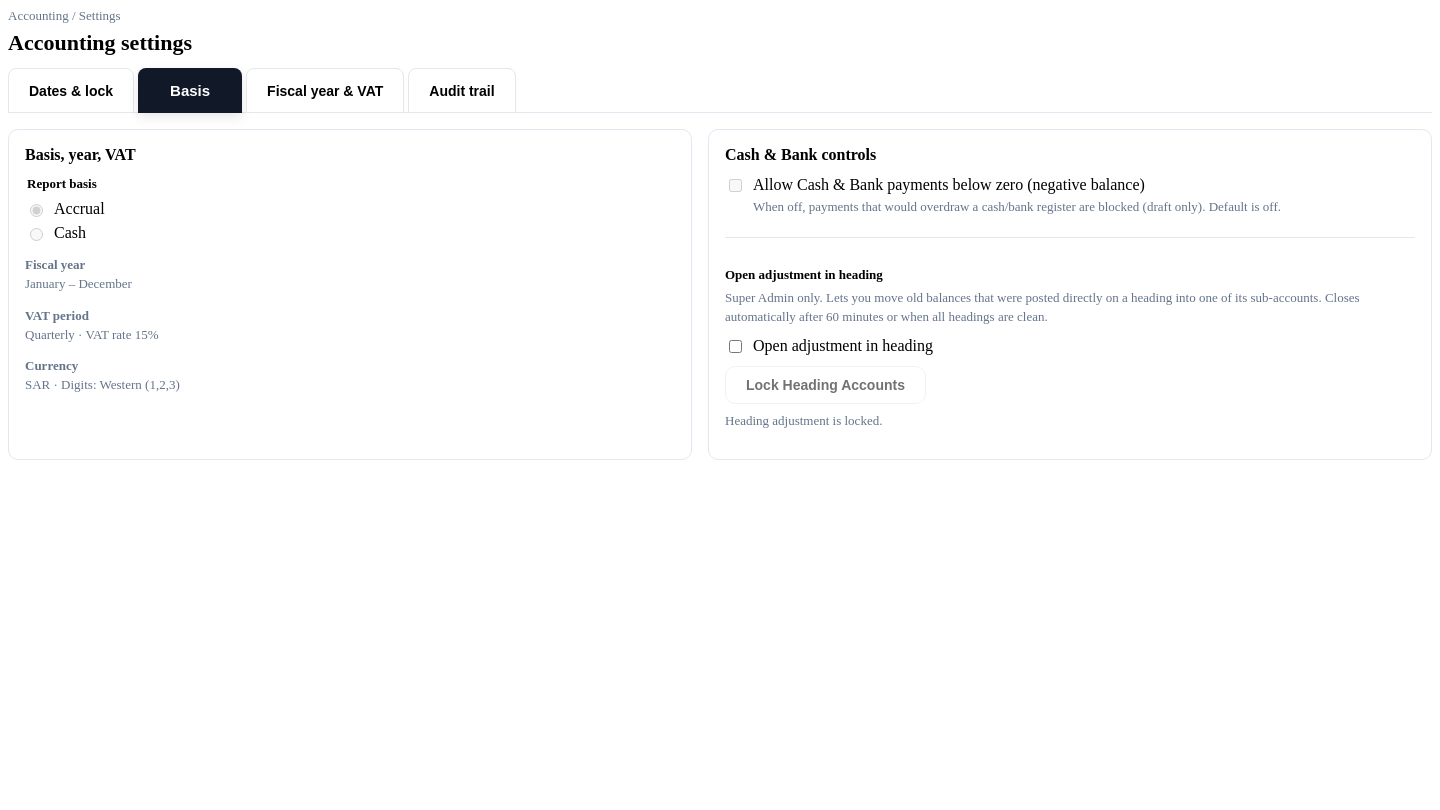
Test case: WorkshopAccountingSettings heading toggle dialog › cancel and Escape do not patch
This screenshot has width=1440, height=810.
Click the checkbox with test id "heading-reclass-open-checkbox": (736, 346) [729,340,742,352]
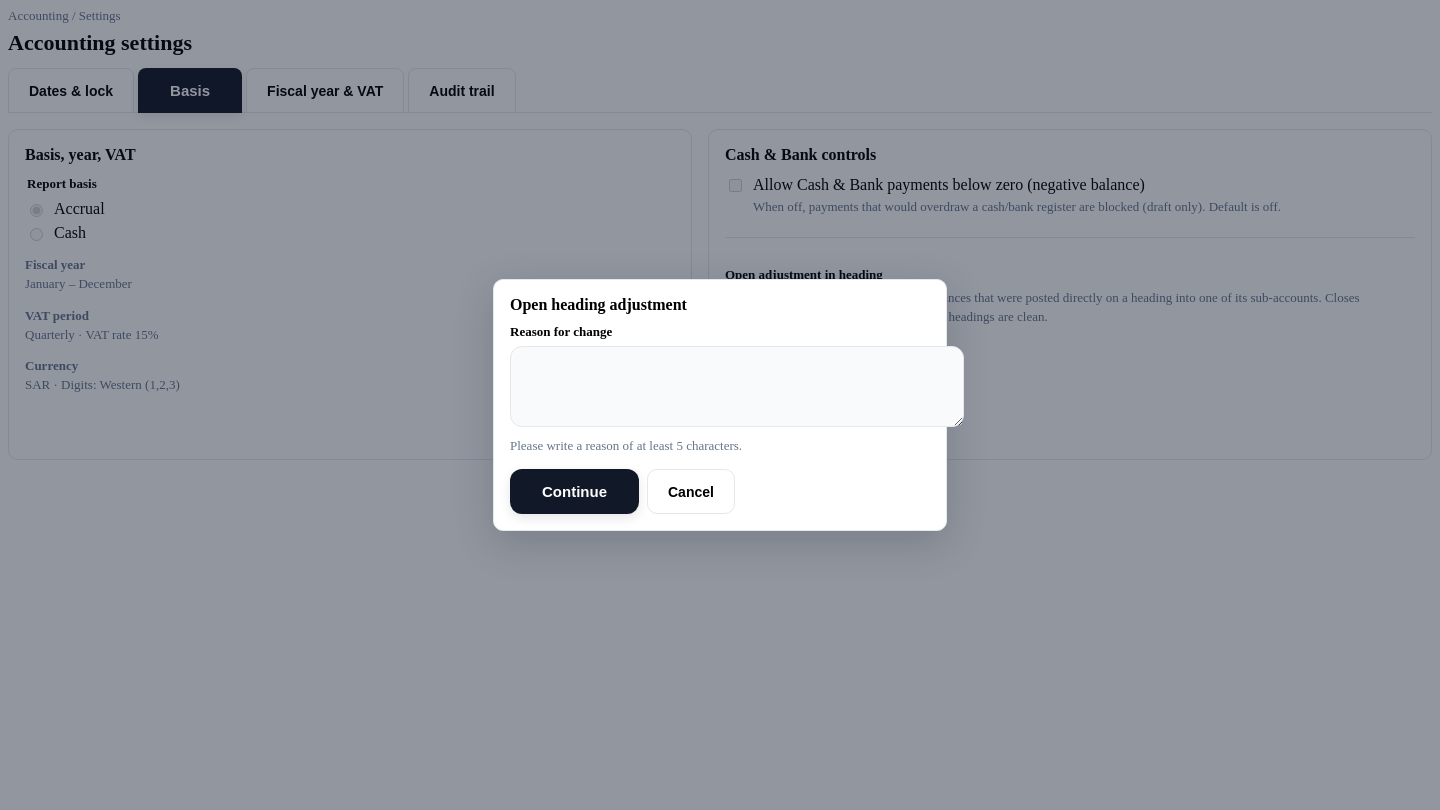
Click the button with test id "heading-reclass-cancel": (691, 492) [647,469,735,514]
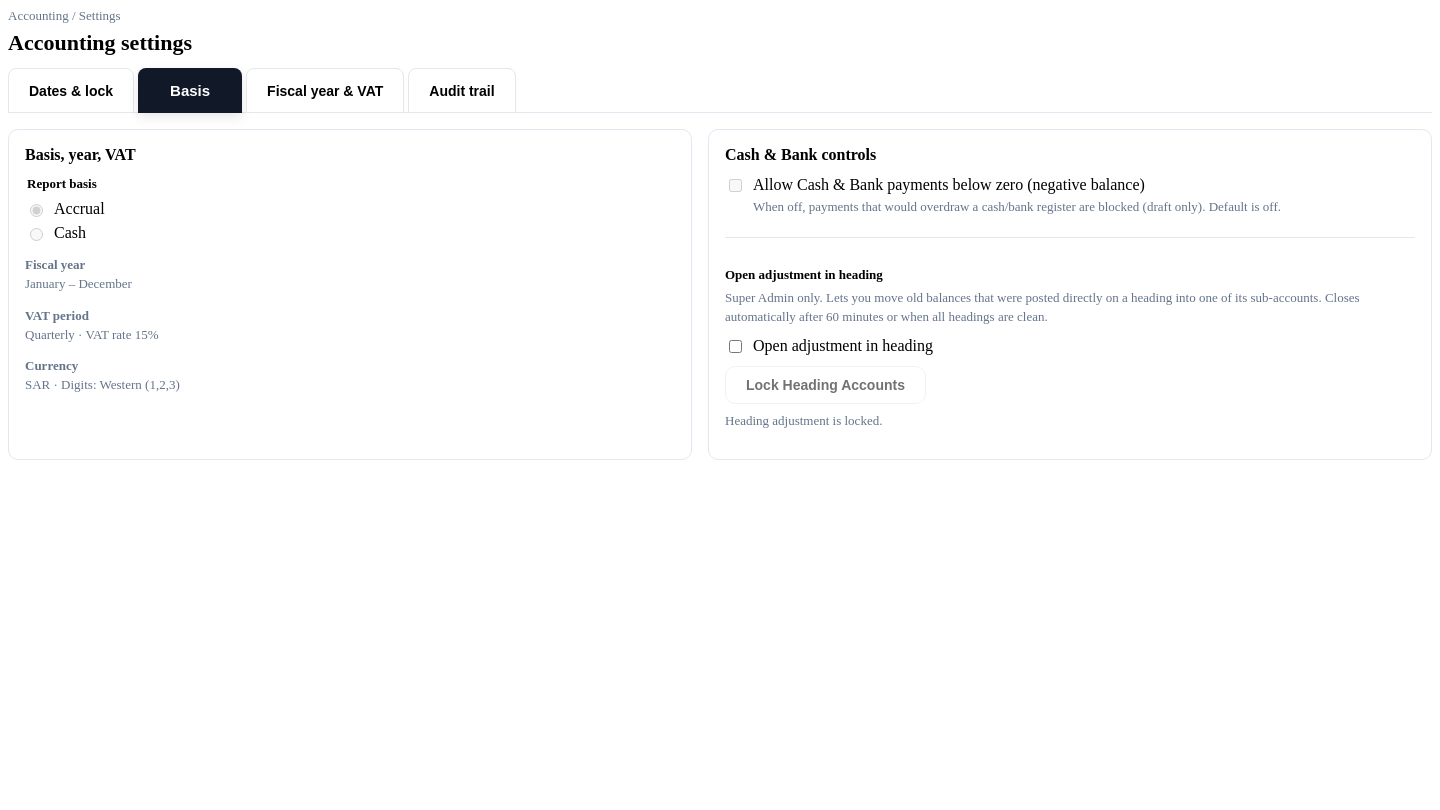
Check: the dialog with test id "heading-reclass-reason-dialog" is gone
Click the checkbox with test id "heading-reclass-open-checkbox": (736, 346) [729,340,742,352]
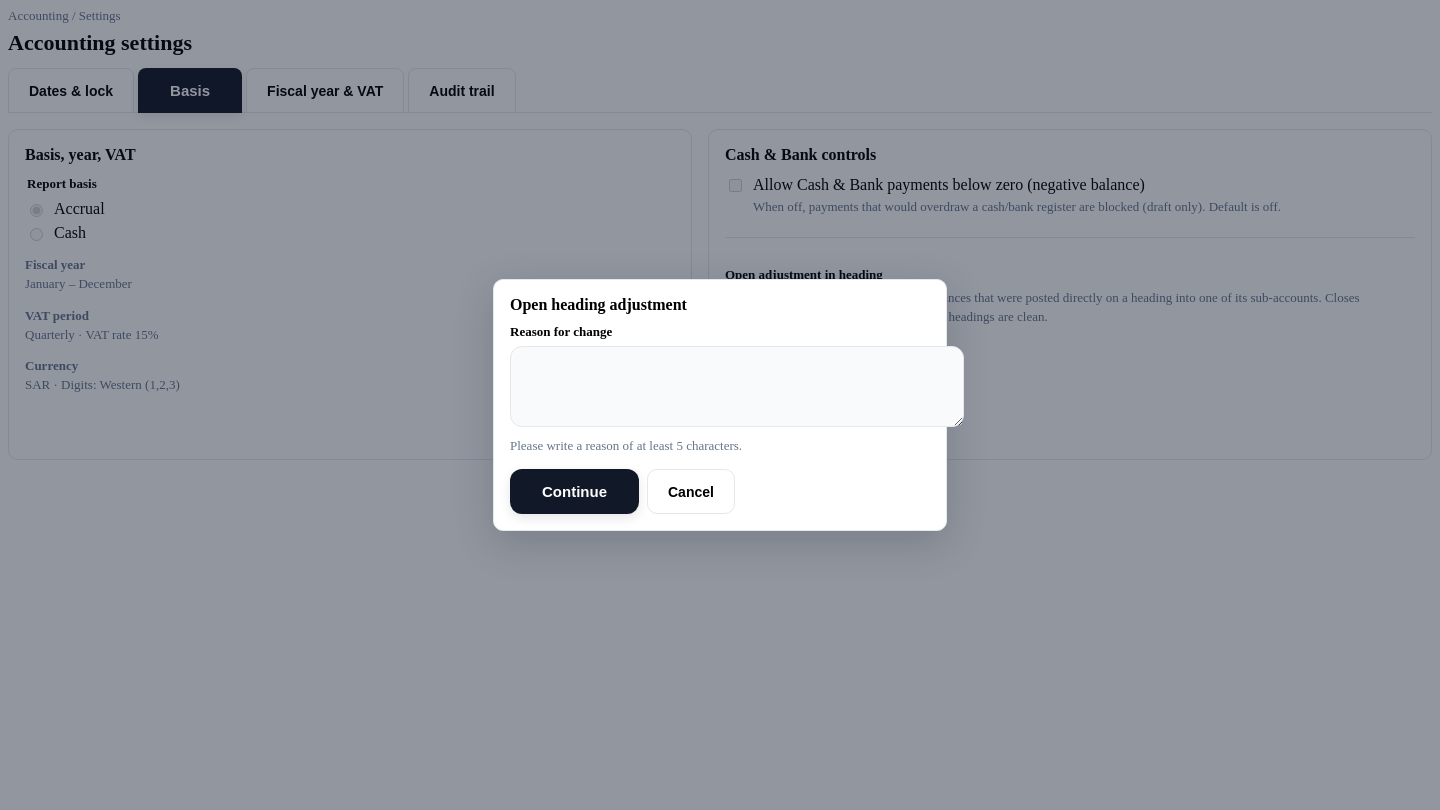
Press Escape
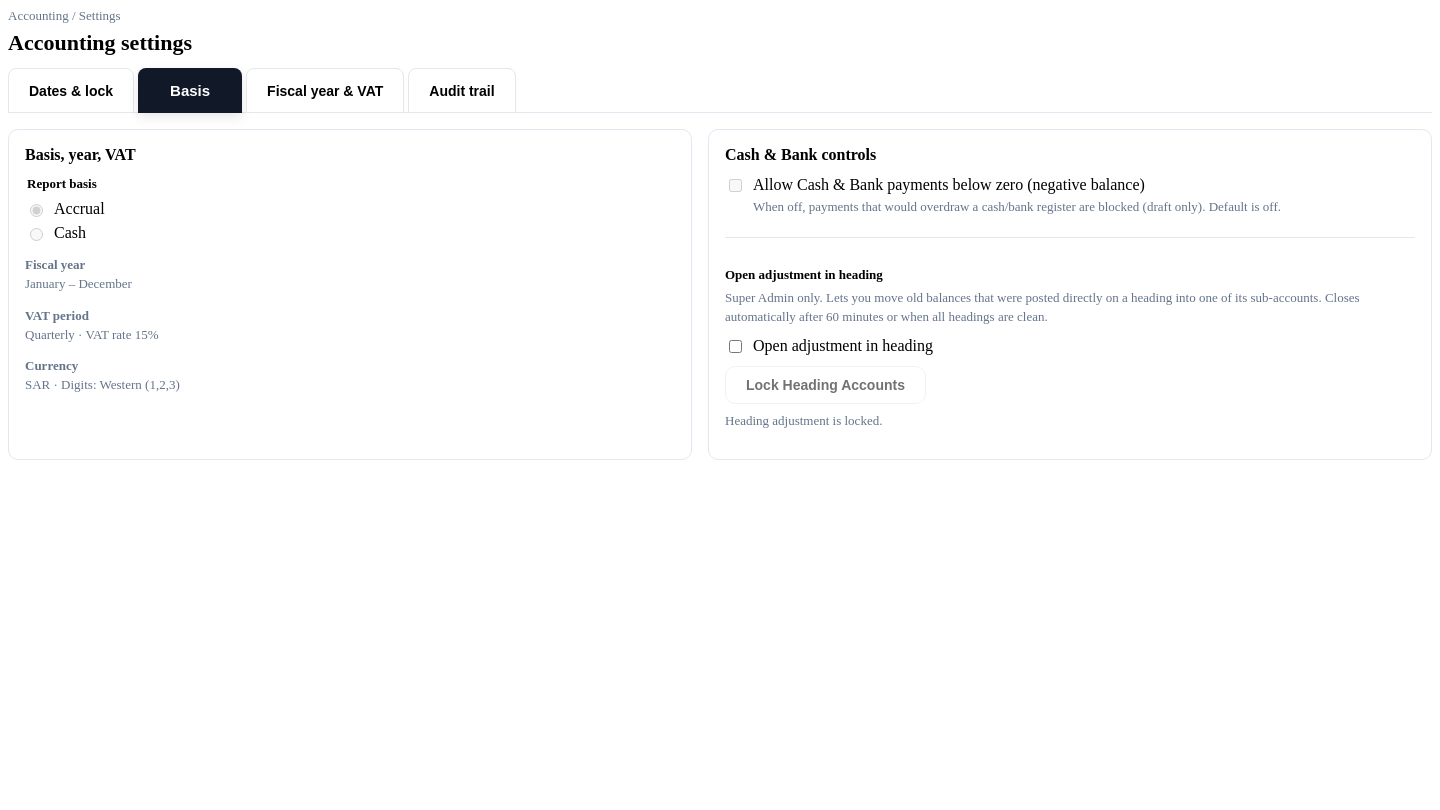
Check: the dialog with test id "heading-reclass-reason-dialog" is gone
